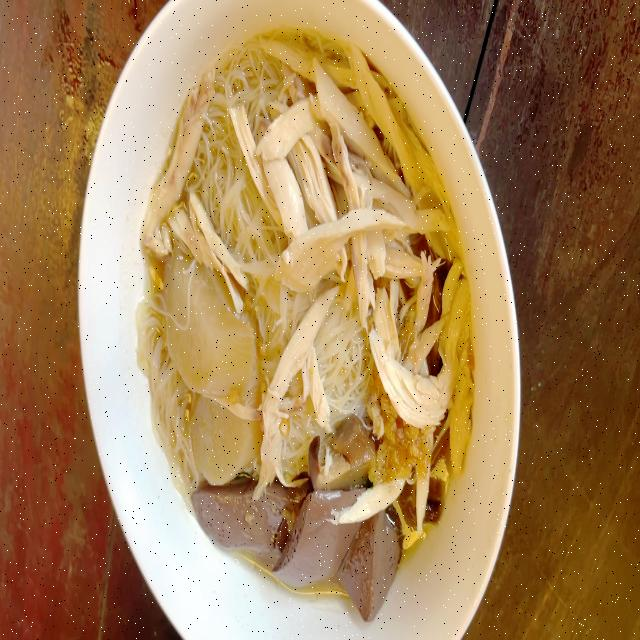boiled_chicken_blood_jelly: (196, 485, 408, 615)
chicken_shredded: (269, 54, 445, 281), (362, 265, 478, 494), (142, 70, 212, 254)
daikon_radish: (169, 256, 251, 394), (195, 392, 261, 486)
noodle: (116, 12, 486, 614)
